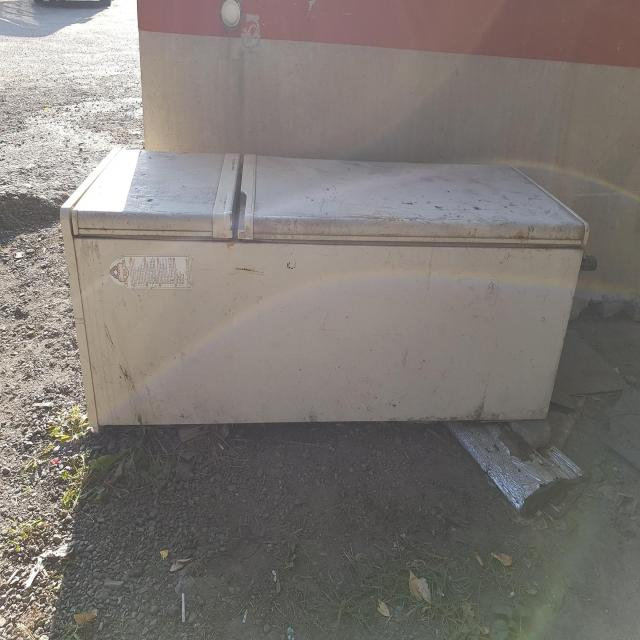refrigerator: (58, 139, 591, 436)
